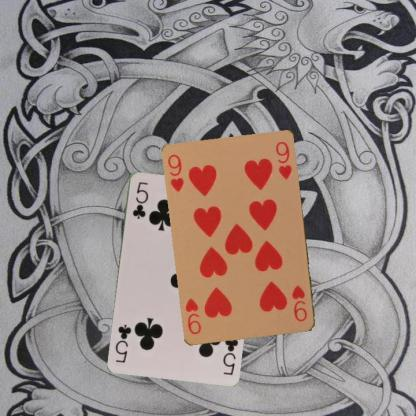5c: (219, 334, 240, 376), (129, 179, 150, 220)
9h: (166, 152, 186, 194), (290, 282, 308, 324)
